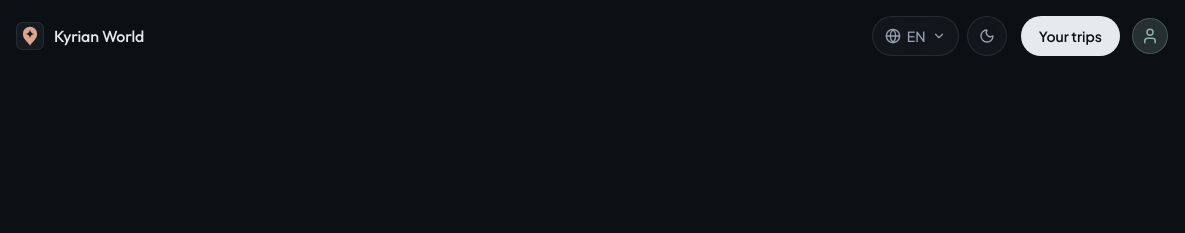
Test: Header › logs out from the user menu and navigates home
Click the button named "Account menu": (1150, 36) 1132,18 -> 1168,54
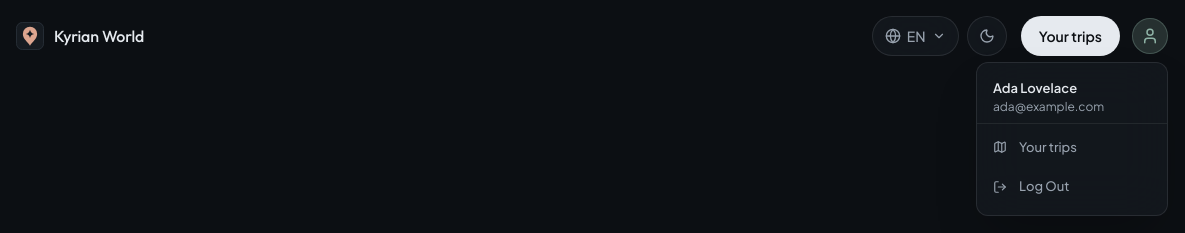
Check: the menu named "Account menu" shows "ada@example.com", box 993,98 -> 1104,114
Click the menu item "Log Out": (1072, 187) 977,167 -> 1167,206
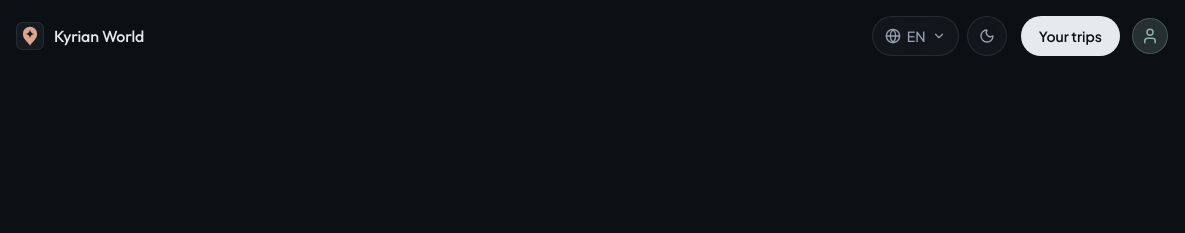
Check: the menu is gone
